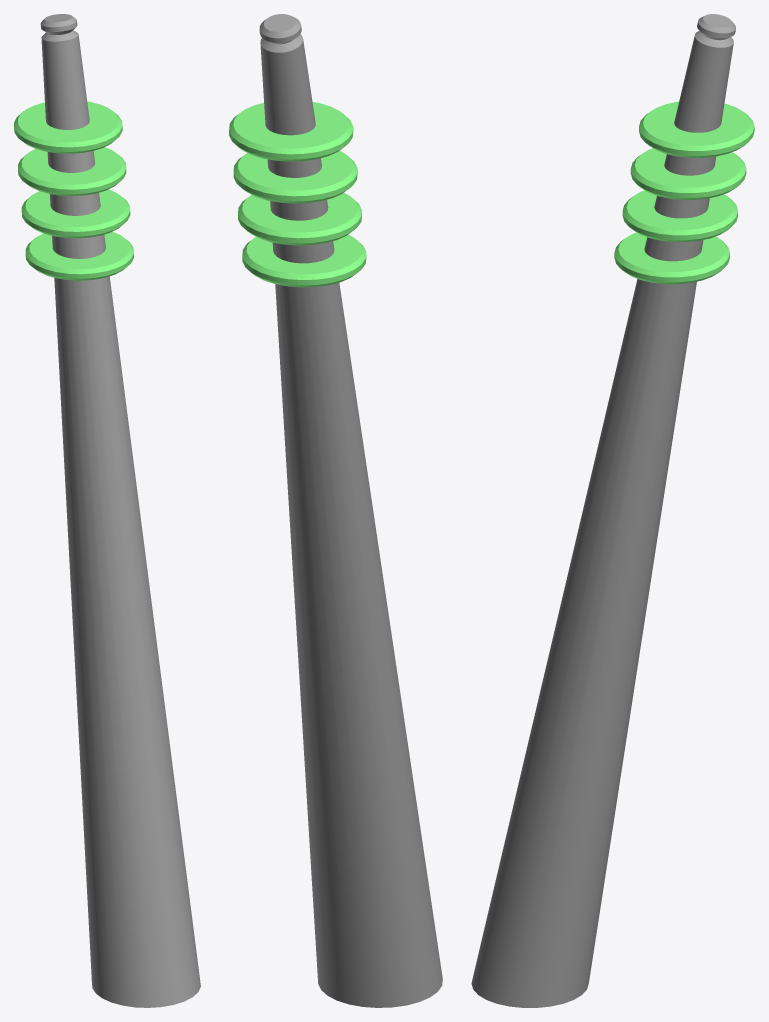
File: tower.glb
The picture shows the model from 3 angles, left to right: view 1: azimuth 30°, elevation 25°; view 2: azimuth 150°, elevation 25°; view 3: azimuth 270°, elevation 25°; orthographic projection. The views are drawn at different scales.
Visible parts, largest first — view 1: Cylinder.003; view 2: Cylinder.003; view 3: Cylinder.003.
Boxes of the visible parts, bbox=[...] form: Cylinder.003: bbox=[14, 14, 200, 1007]; Cylinder.003: bbox=[229, 14, 442, 1007]; Cylinder.003: bbox=[471, 14, 754, 1007].
Bounding box in the file's own units: 3 × 27.64 × 7.35.
